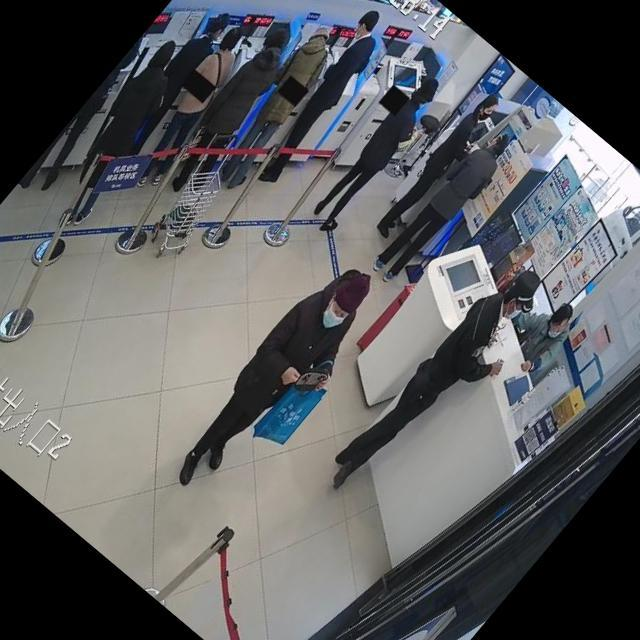person: (320, 251, 564, 523), (158, 248, 397, 512), (35, 33, 212, 228), (204, 6, 381, 199), (238, 7, 401, 190), (150, 20, 314, 201), (196, 19, 354, 196), (113, 22, 270, 195), (366, 120, 520, 293), (301, 71, 451, 240), (370, 88, 509, 246), (19, 42, 157, 198), (20, 46, 154, 196), (108, 6, 242, 156), (494, 284, 585, 380), (96, 24, 158, 96)
